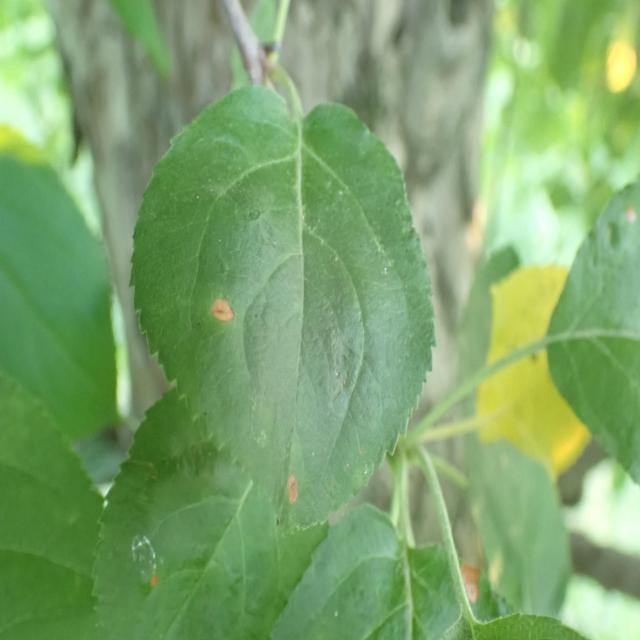Black Rot: (191, 272, 241, 345), (277, 471, 317, 527)
